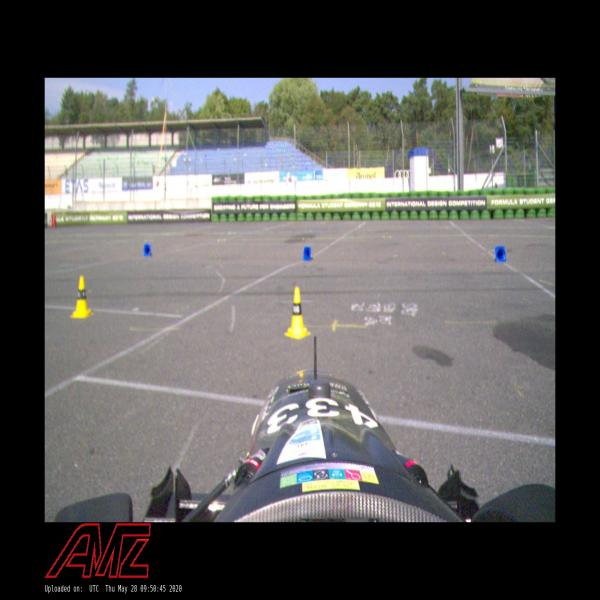blue_cone: (495, 246, 506, 262), (303, 246, 313, 261), (143, 242, 152, 256)
yellow_cone: (284, 286, 311, 339), (70, 276, 94, 318)
